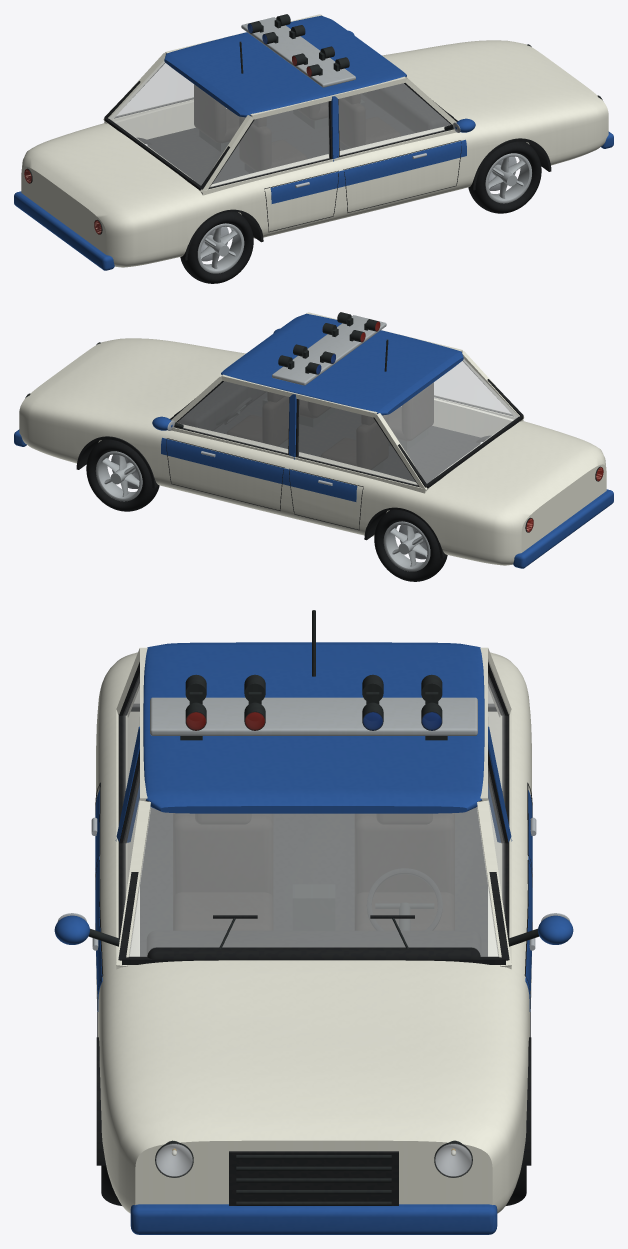
Rendered from crime-police-sedan.glb.
The picture shows the model from 3 angles, top to bottom: view 1: azimuth 30°, elevation 25°; view 2: azimuth 150°, elevation 25°; view 3: azimuth 270°, elevation 25°; orthographic projection. The views are drawn at different scales.
Parts seen in each view (by area): view 1: Patrol sculpted body with cut cabin and wheel arches, Patrol shaped finite roof panel, Patrol rear screen finite transparent pane, Patrol rear door glazing -1 finite transparent pane, Patrol cabin floor, Patrol front door glazing -1 finite transparent pane, Patrol generic blue side livery -1, Patrol light bar base, Patrol closed dashboard, Patrol wheel 1410.0 -1 rounded tyre carcass, Patrol wheel -1410.0 -1 rounded tyre carcass, Patrol rear door glazing 1 finite transparent pane (+16 smaller); view 2: Patrol sculpted body with cut cabin and wheel arches, Patrol shaped finite roof panel, Patrol rear screen finite transparent pane, Patrol rear door glazing 1 finite transparent pane, Patrol cabin floor, Patrol front door glazing 1 finite transparent pane, Patrol generic blue side livery 1, Patrol light bar base, Patrol wheel 1410.0 1 rounded tyre carcass, Patrol wheel -1410.0 1 rounded tyre carcass, Patrol closed dashboard, Patrol rear door glazing -1 finite transparent pane (+16 smaller); view 3: Patrol sculpted body with cut cabin and wheel arches, Patrol windscreen finite transparent pane, Patrol shaped finite roof panel, Patrol cabin floor, Patrol bumper 1, Patrol light bar base, Patrol closed dashboard, Patrol seat back 0 -1, Patrol seat back 0 1, Patrol grille backing, Patrol seat cushion 0 -1, Patrol seat cushion 0 1 (+19 smaller).
Boxes of the visible parts, x1=… form: Patrol sculpted body with cut cabin and wheel arches: x1=21, y1=40, x2=608, y2=267; Patrol shaped finite roof panel: x1=164, y1=15, x2=406, y2=117; Patrol rear screen finite transparent pane: x1=109, y1=61, x2=245, y2=185; Patrol rear door glazing -1 finite transparent pane: x1=210, y1=101, x2=329, y2=187; Patrol cabin floor: x1=147, y1=94, x2=414, y2=185; Patrol front door glazing -1 finite transparent pane: x1=339, y1=83, x2=450, y2=155; Patrol generic blue side livery -1: x1=270, y1=139, x2=466, y2=203; Patrol light bar base: x1=241, y1=17, x2=355, y2=87; Patrol closed dashboard: x1=361, y1=83, x2=453, y2=132; Patrol wheel 1410.0 -1 rounded tyre carcass: x1=468, y1=141, x2=541, y2=213; Patrol wheel -1410.0 -1 rounded tyre carcass: x1=180, y1=211, x2=253, y2=283; Patrol rear door glazing 1 finite transparent pane: x1=115, y1=63, x2=193, y2=117; Patrol sculpted body with cut cabin and wheel arches: x1=19, y1=338, x2=606, y2=565; Patrol shaped finite roof panel: x1=221, y1=313, x2=463, y2=415; Patrol rear screen finite transparent pane: x1=382, y1=359, x2=518, y2=483; Patrol rear door glazing 1 finite transparent pane: x1=298, y1=399, x2=417, y2=485; Patrol cabin floor: x1=213, y1=392, x2=480, y2=483; Patrol front door glazing 1 finite transparent pane: x1=177, y1=381, x2=288, y2=453; Patrol generic blue side livery 1: x1=161, y1=437, x2=357, y2=501; Patrol light bar base: x1=272, y1=315, x2=386, y2=385; Patrol wheel 1410.0 1 rounded tyre carcass: x1=86, y1=439, x2=159, y2=511; Patrol wheel -1410.0 1 rounded tyre carcass: x1=374, y1=509, x2=447, y2=581; Patrol closed dashboard: x1=174, y1=381, x2=266, y2=430; Patrol rear door glazing -1 finite transparent pane: x1=434, y1=361, x2=512, y2=415; Patrol sculpted body with cut cabin and wheel arches: x1=96, y1=652, x2=531, y2=1213; Patrol windscreen finite transparent pane: x1=129, y1=807, x2=498, y2=956; Patrol shaped finite roof panel: x1=143, y1=642, x2=484, y2=813; Patrol cabin floor: x1=140, y1=807, x2=487, y2=956; Patrol bumper 1: x1=130, y1=1204, x2=497, y2=1234; Patrol light bar base: x1=150, y1=697, x2=477, y2=735; Patrol closed dashboard: x1=146, y1=930, x2=481, y2=962; Patrol seat back 0 -1: x1=173, y1=815, x2=273, y2=896; Patrol seat back 0 1: x1=354, y1=815, x2=454, y2=896; Patrol grille backing: x1=229, y1=1151, x2=398, y2=1205; Patrol seat cushion 0 -1: x1=173, y1=892, x2=273, y2=930; Patrol seat cushion 0 1: x1=354, y1=892, x2=454, y2=930.
Size of the model in its own units: 5.01 by 1.76 by 2.2.
Materials: 14 (10 with a texture image).
